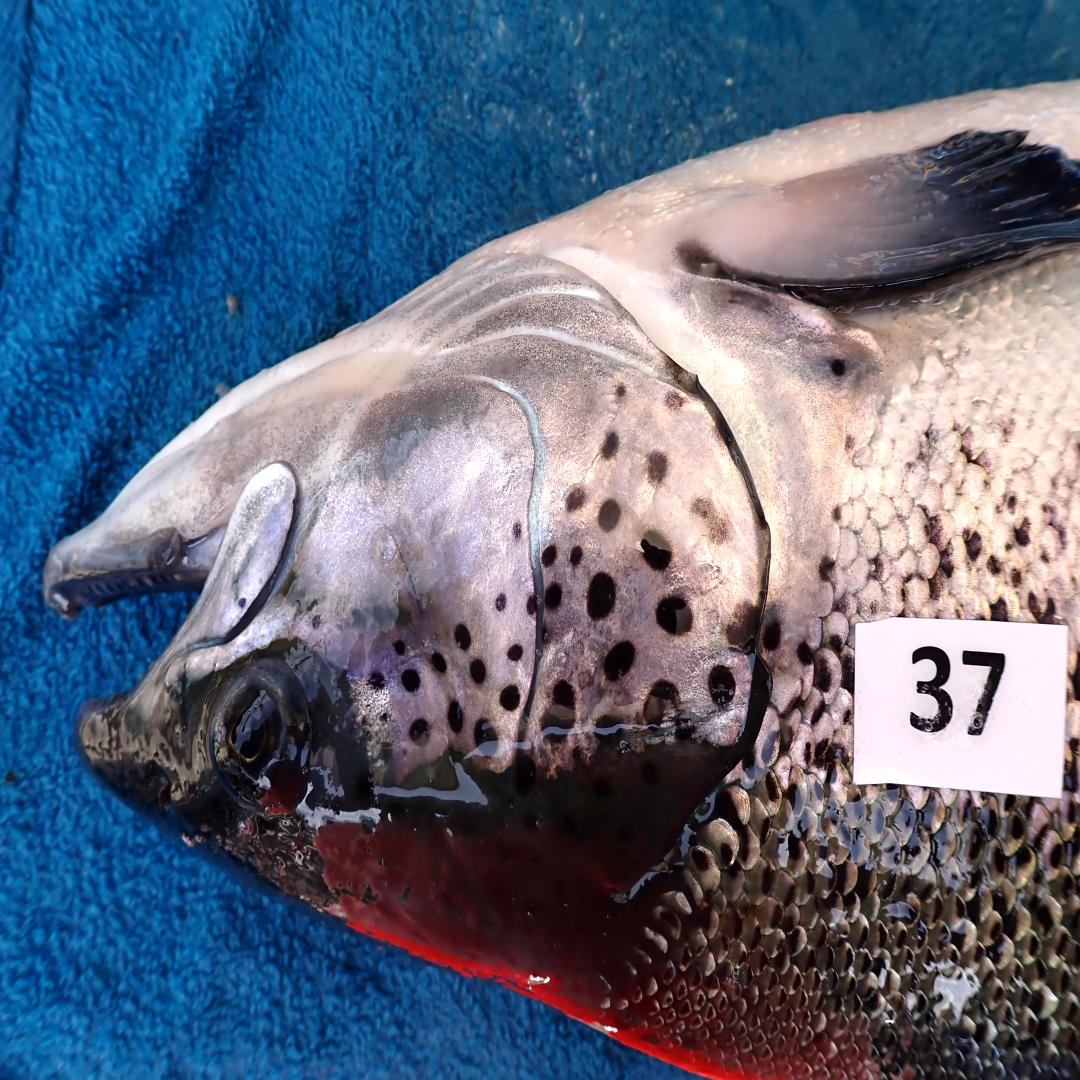roi: (300, 246, 767, 776)
